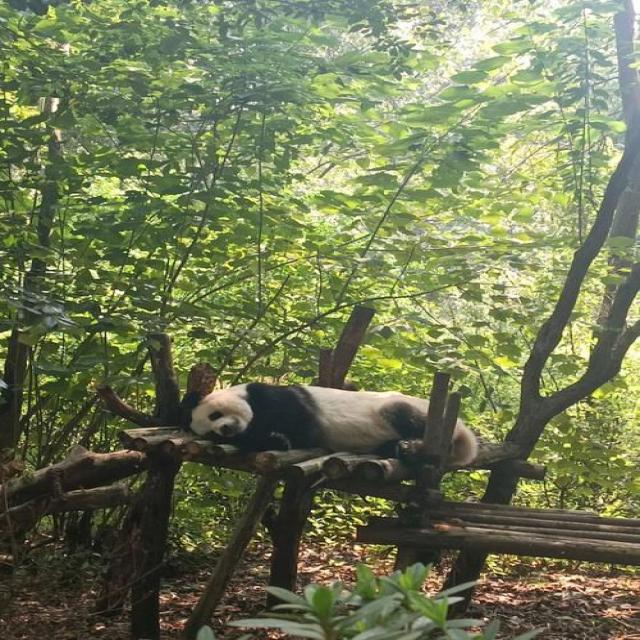panda: (169, 369, 516, 508)
